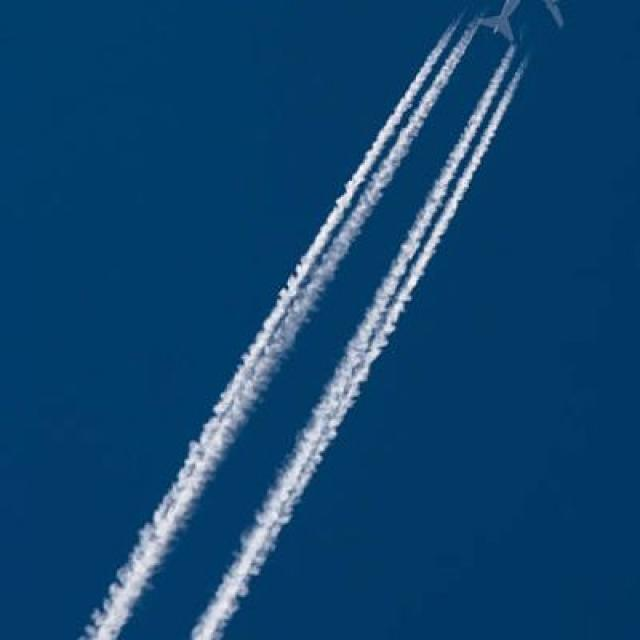Ct: (84, 11, 617, 640)
